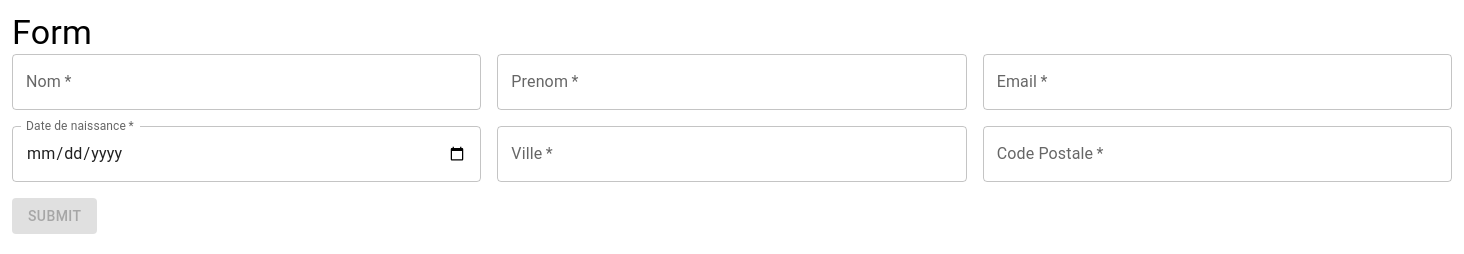
Test case: Form coverage tests › le bouton submit est désactivé si un champ est vide
The image size is (1464, 254).
In the field labelled "Nom *": (247, 82) 12,54 -> 481,110, type "Jean"
In the field labelled "Prenom *": (732, 82) 497,54 -> 967,110, type "Dupont"
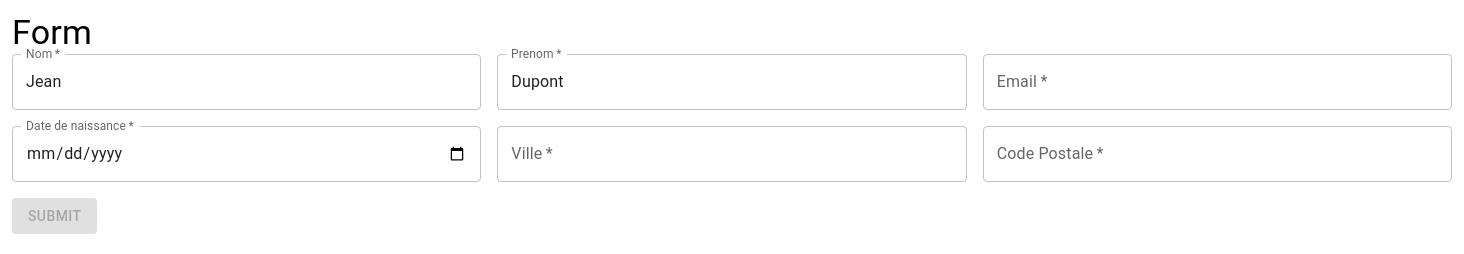
In the field labelled "Email *": (1217, 82) 983,54 -> 1452,110, type "jean@ex.com"
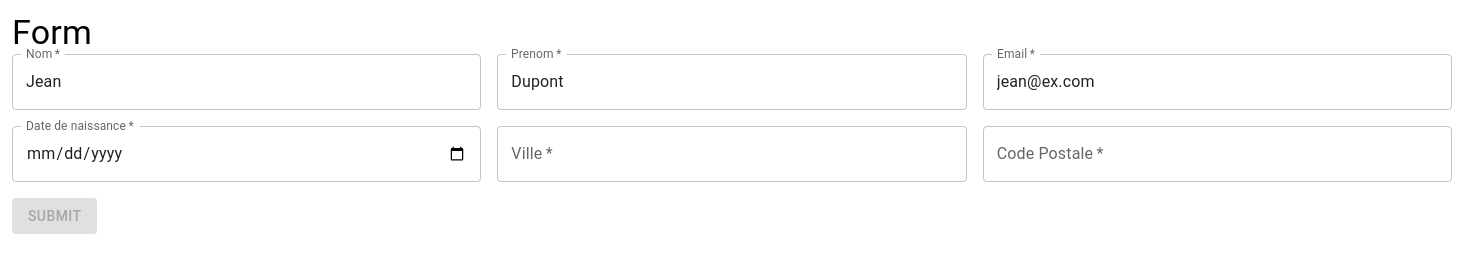
In the date field labelled "Date de naissance *": (247, 154) 12,126 -> 481,182, type "2000-01-01"
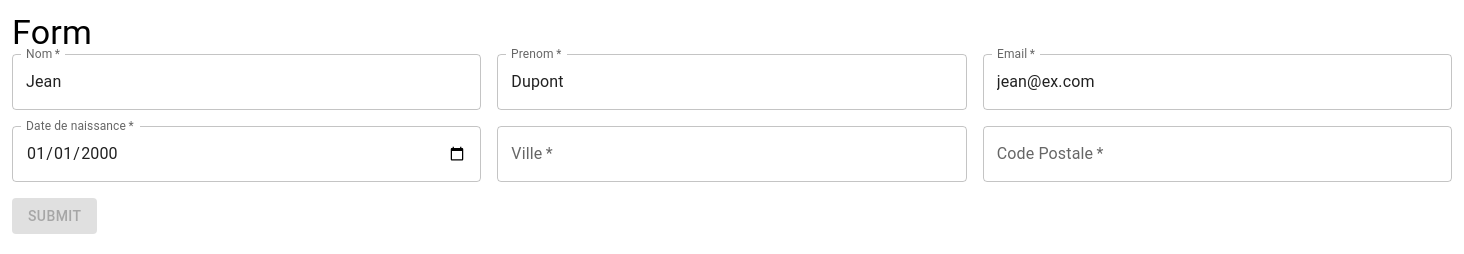
In the field labelled "Ville *": (732, 154) 497,126 -> 967,182, type "Paris"
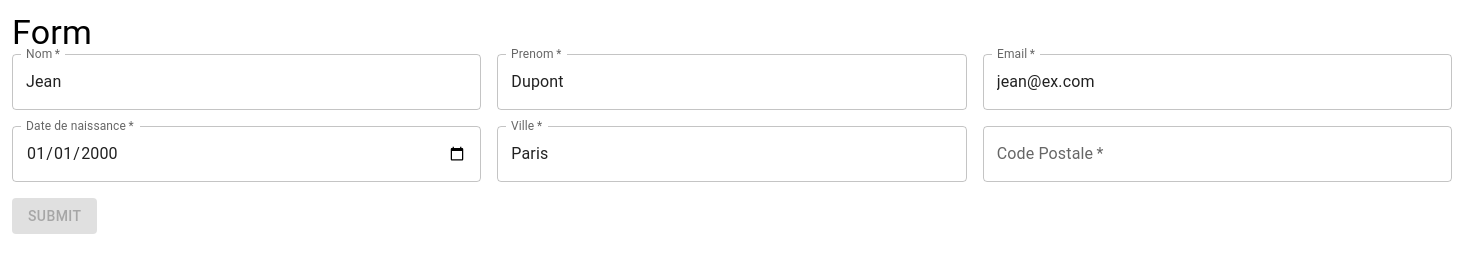
In the field labelled "Code Postale *": (1217, 154) 983,126 -> 1452,182, type "75000"
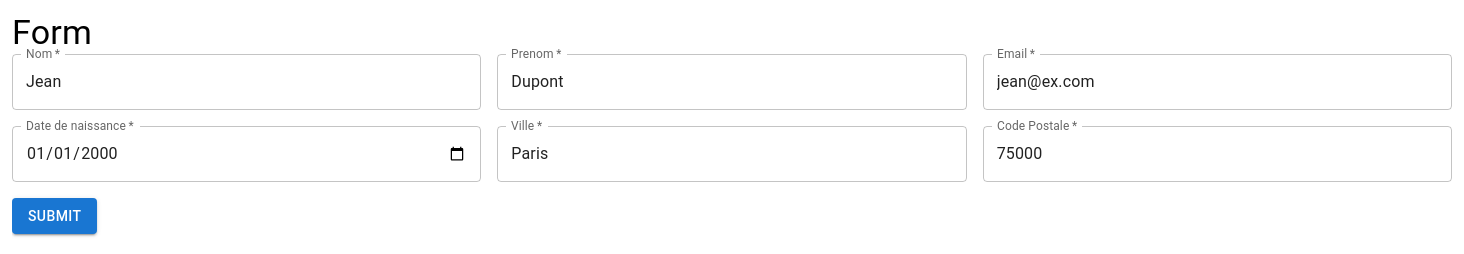
Clear the field labelled "Nom *": (247, 82) 12,54 -> 481,110
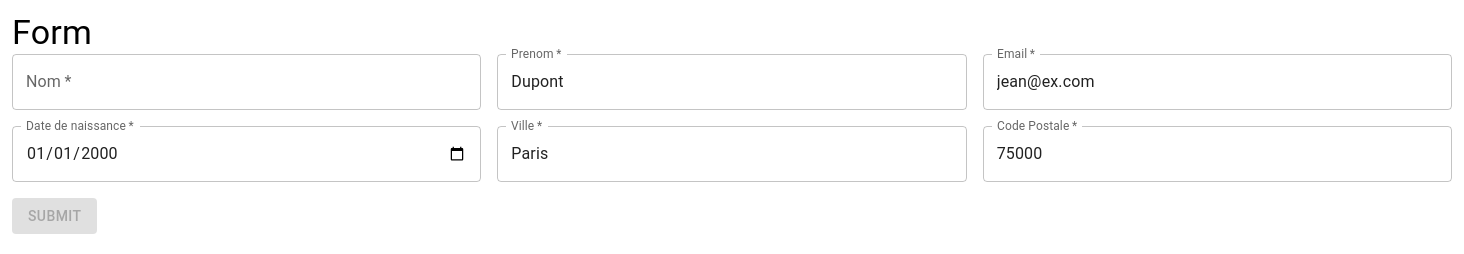
Check: the button "Submit" is disabled, box 12,198 -> 97,234
